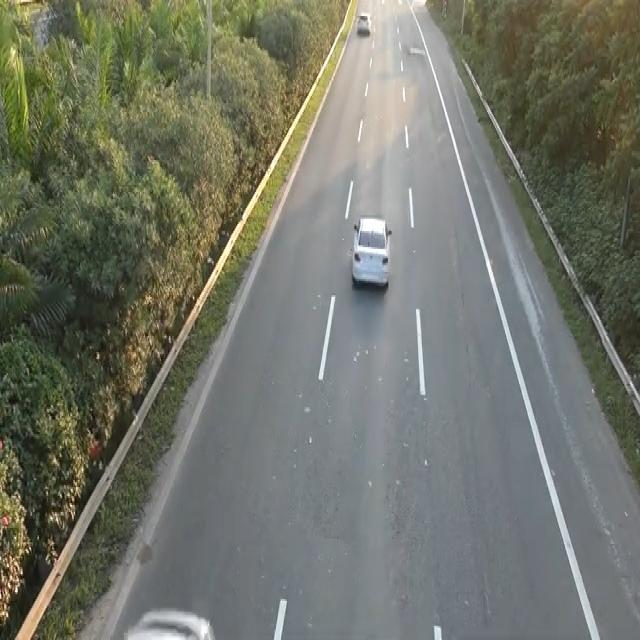bus: (349, 212, 393, 290)
